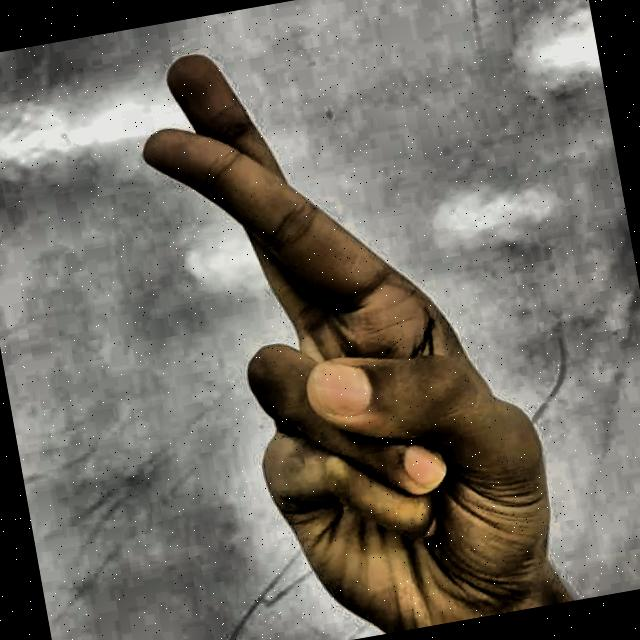Ra: (69, 0, 593, 640)
